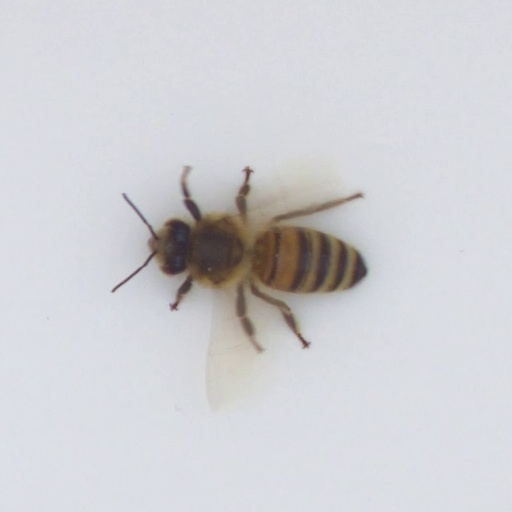Bee: (159, 229, 357, 290)
Thorax: (184, 222, 248, 286)
